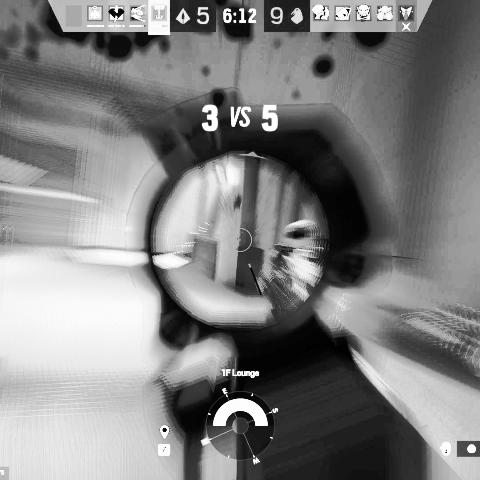Character: (257, 219, 370, 364)
Head: (280, 219, 322, 262)
